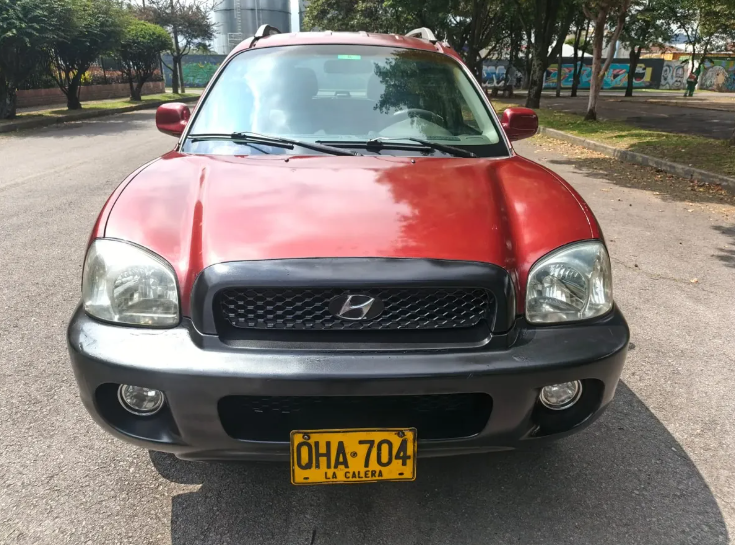placa: (288, 428, 417, 482)
